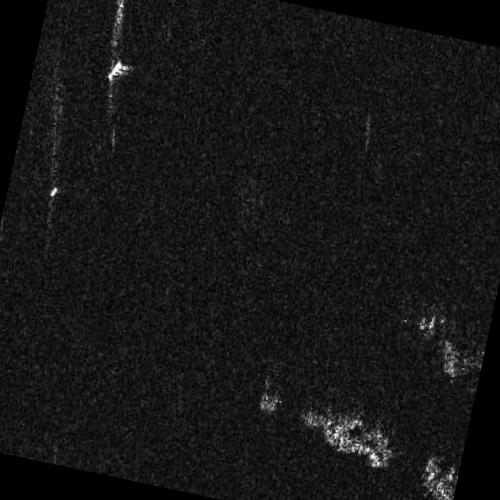ship: (107, 60, 122, 81), (48, 185, 58, 198)
